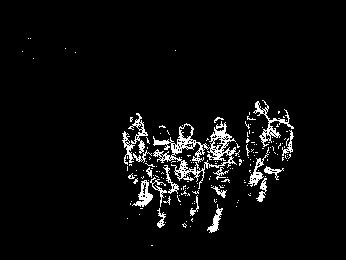person: (203, 115, 242, 236), (258, 108, 293, 205), (174, 120, 205, 228), (149, 123, 178, 229), (123, 111, 154, 209), (245, 98, 269, 189)
